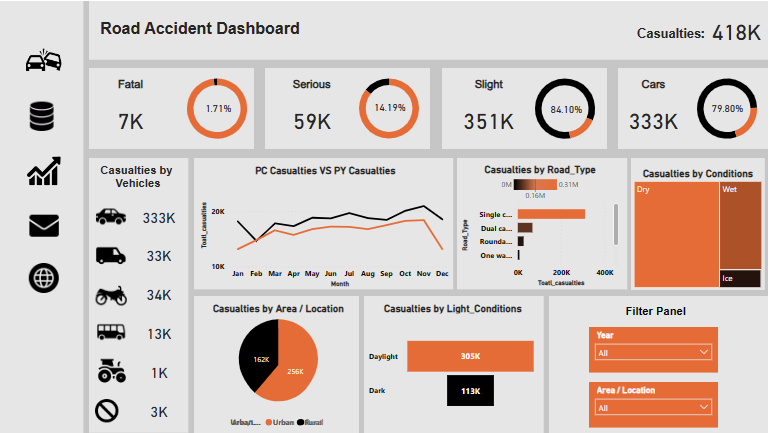

The dashboard page shown, as its layout file describes it:
{"tool":"powerbi","page":{"name":"Road_Accident","canvas":[1280,720],"ordinal":0},"visuals":[{"type":"shape","box":[914.4,491,365.8,229],"z":0},{"type":"shape","box":[322.6,262.1,432,218.9],"z":1000},{"type":"shape","box":[148.3,0,1131.8,97.9],"z":2000},{"type":"shape","box":[7.2,0,132.5,720],"z":3000},{"type":"shape","box":[148.3,110.9,275,135.4],"z":4000},{"type":"shape","box":[442.1,110.9,275,135.4],"z":5000},{"type":"shape","box":[735.8,110.9,275,135.4],"z":6000},{"type":"shape","box":[1029.6,110.9,275,135.4],"z":7000},{"type":"shape","box":[148.3,262.1,165.6,457.9],"z":8000},{"type":"card","title":"Fatal","fields":{"Values":["Measures (2).Fatal"]},"box":[148.3,125.3,138.2,121],"z":9000},{"type":"card","title":"Serious","fields":{"Values":["Measures (2).Serious"]},"box":[442.1,125.3,155.5,121],"z":10000},{"type":"card","title":"Slight","fields":{"Values":["Measures (2).Slight"]},"box":[735.8,125.3,155.5,121],"z":11000},{"type":"card","fields":{"Values":["Measures (2).Toatl_casualties"]},"box":[1175,0,105.1,97.9],"z":12000},{"type":"card","fields":{"Values":["Measures (2).%Fatal"]},"box":[329.8,148.3,67.7,61.9],"z":13000},{"type":"card","fields":{"Values":["Measures (2).%Serious"]},"box":[604.8,144,89.3,70.6],"z":14000},{"type":"card","fields":{"Values":["Measures (2).%Slight"]},"box":[904.3,152.6,77.8,54.7],"z":15000},{"type":"donutChart","fields":{"Y":["Measures (2).Toatl_casualties"],"Category":["Road_Accident.Fatal"]},"box":[293.8,112.3,136.8,135.4],"z":16000},{"type":"donutChart","fields":{"Y":["Measures (2).Toatl_casualties"],"Category":["Road_Accident.Serious"]},"box":[580.3,112.3,136.8,135],"z":17000},{"type":"donutChart","fields":{"Y":["Measures (2).Toatl_casualties"],"Category":["Road_Accident.Accident_Severity (groups)"]},"box":[874.1,112.3,136.8,135.4],"z":18000},{"type":"card","title":"Cars","fields":{"Values":["Measures (2).Cars"]},"box":[1035.4,125.3,108,121],"z":19000},{"type":"card","fields":{"Values":["Measures (2).Van"]},"box":[217.4,397.4,96.5,54.7],"z":20000},{"type":"donutChart","fields":{"Y":["Measures (2).Toatl_casualties"],"Category":["Road_Accident.Cars"]},"box":[1143.4,112.3,136.8,135.4],"z":21000},{"type":"card","fields":{"Values":["Measures (2).%Cars"]},"box":[1175,149.8,74.9,60.5],"z":22000},{"type":"lineChart","title":"PC Casualties VS PY Casualties","fields":{"Y":["Measures (2).Toatl_casualties"],"Series":["Road_Accident.Year"],"Category":["Road_Accident.Month"]},"box":[334.1,262.1,424.8,210.2],"z":23000},{"type":"card","fields":{"Values":["Measures (2).Motorcycle"]},"box":[217.4,462.2,96.5,54.7],"z":24000},{"type":"card","fields":{"Values":["Measures (2).Bus"]},"box":[217.4,527,96.5,54.7],"z":25000},{"type":"card","fields":{"Values":["Measures (2).Cars"]},"box":[217.4,332.6,96.5,54.7],"z":26000},{"type":"card","fields":{"Values":["Measures (2).AgriCulture_Vehicle"]},"box":[217.4,591.8,96.5,54.7],"z":27000},{"type":"card","fields":{"Values":["Measures (2).Other"]},"box":[217.4,656.6,96.5,54.7],"z":28000},{"type":"shape","box":[761.8,262.1,283.7,218.9],"z":29000},{"type":"clusteredBarChart","title":"Casualties by Road_Type","fields":{"Category":["Road_Accident.Road_Type"],"Y":["Measures (2).Toatl_casualties"]},"box":[764.6,270.7,270.7,210.2],"z":30000},{"type":"shape","box":[1051.2,262.1,223.2,220.3],"z":31000},{"type":"treemap","title":"Casualties by Conditions ","fields":{"Values":["Measures (2).Toatl_casualties"],"Group":["Road_Accident.Road_Surface_Conditions (groups)"]},"box":[1051.2,276.5,223.2,205.9],"z":32000},{"type":"shape","box":[322.6,491,275,229],"z":33000},{"type":"pieChart","fields":{"Category":["Road_Accident.Urban_or_Rural_Area"],"Y":["Measures (2).Toatl_casualties"]},"box":[329.8,501.1,267.8,218.9],"z":34000},{"type":"pieChart","title":"Casualties by  Area / Location","fields":{"Category":["Road_Accident.Urban_or_Rural_Area"],"Y":["Measures (2).Toatl_casualties"]},"box":[329.8,501.1,267.8,218.9],"z":35000},{"type":"shape","box":[606,491,299.5,229],"z":36000},{"type":"funnel","title":"Casualties by Light_Conditions  ","fields":{"Y":["Measures (2).Toatl_casualties"],"Category":["Road_Accident.Light_Conditions (groups)"]},"box":[610.6,501.1,289.4,218.9],"z":37000},{"type":"slicer","fields":{"Values":["Road_Accident.Year"]},"box":[982.1,542.9,214.6,76.3],"z":38000},{"type":"slicer","fields":{"Values":["Road_Accident.Urban_or_Rural_Area"]},"box":[982.1,635,214.6,76.3],"z":39000},{"type":"textbox","box":[914.4,501.1,355.7,40.3],"z":40000},{"type":"image","box":[154.1,394.6,63.4,59],"z":41000},{"type":"image","box":[154.1,326.9,63.4,64.8],"z":42000},{"type":"image","box":[154.1,521.3,63.4,60.5],"z":43000},{"type":"image","box":[154.1,459.4,63.4,61.9],"z":44000},{"type":"image","box":[151.2,589,69.1,56.2],"z":45000},{"type":"image","box":[154.1,653.8,49,59],"z":46000},{"type":"textbox","box":[139.7,266.4,180,66.2],"z":47000},{"type":"textbox","box":[154.1,27.4,360,43.2],"z":48000},{"type":"textbox","box":[878.4,33,301,44.6],"z":49000},{"type":"image","box":[28.8,63.4,87.8,69.1],"z":50000},{"type":"image","box":[40.3,160.9,59,60.5],"z":51000},{"type":"image","box":[40.3,249.8,66.2,66.2],"z":52000},{"type":"image","box":[34.6,344.5,76.3,59],"z":53000},{"type":"image","box":[40.3,432,66.2,60.5],"z":54000}]}

Visuals, with their boxes in screenshot pixels (x1, y1, x2, y2), scaled from the page's 1280x720 canvas onto the 769x433 screenshot:
shape: [549,295,768,432]
shape: [194,158,453,289]
shape: [89,0,768,59]
shape: [4,0,84,432]
shape: [89,67,254,148]
shape: [266,67,431,148]
shape: [442,67,607,148]
shape: [619,67,768,148]
shape: [89,158,189,432]
"Fatal" card: [89,75,172,148]
"Serious" card: [266,75,359,148]
"Slight" card: [442,75,535,148]
card - Measures (2).Toatl_casualties: [706,0,768,59]
card - Measures (2).%Fatal: [198,89,239,126]
card - Measures (2).%Serious: [363,87,417,129]
card - Measures (2).%Slight: [543,92,590,125]
donutChart - Measures (2).Toatl_casualties x Road_Accident.Fatal: [177,68,259,149]
donutChart - Measures (2).Toatl_casualties x Road_Accident.Serious: [349,68,431,149]
donutChart - Measures (2).Toatl_casualties x Road_Accident.Accident_Severity (groups): [525,68,607,149]
"Cars" card: [622,75,687,148]
card - Measures (2).Van: [131,239,189,272]
donutChart - Measures (2).Toatl_casualties x Road_Accident.Cars: [687,68,768,149]
card - Measures (2).%Cars: [706,90,751,126]
"PC Casualties VS PY Casualties" lineChart: [201,158,456,284]
card - Measures (2).Motorcycle: [131,278,189,311]
card - Measures (2).Bus: [131,317,189,350]
card - Measures (2).Cars: [131,200,189,233]
card - Measures (2).AgriCulture_Vehicle: [131,356,189,389]
card - Measures (2).Other: [131,395,189,428]
shape: [458,158,628,289]
"Casualties by Road_Type" clusteredBarChart: [459,163,622,289]
shape: [632,158,766,290]
"Casualties by Conditions " treemap: [632,166,766,290]
shape: [194,295,359,432]
pieChart - Road_Accident.Urban_or_Rural_Area x Measures (2).Toatl_casualties: [198,301,359,432]
"Casualties by  Area / Location" pieChart: [198,301,359,432]
shape: [364,295,544,432]
"Casualties by Light_Conditions  " funnel: [367,301,541,432]
slicer - Road_Accident.Year: [590,326,719,372]
slicer - Road_Accident.Urban_or_Rural_Area: [590,382,719,428]
textbox: [549,301,763,326]
image: [93,237,131,273]
image: [93,197,131,236]
image: [93,314,131,350]
image: [93,276,131,314]
image: [91,354,132,388]
image: [93,393,122,429]
textbox: [84,160,192,200]
textbox: [93,16,309,42]
textbox: [528,20,709,47]
image: [17,38,70,80]
image: [24,97,60,133]
image: [24,150,64,190]
image: [21,207,67,243]
image: [24,260,64,296]
